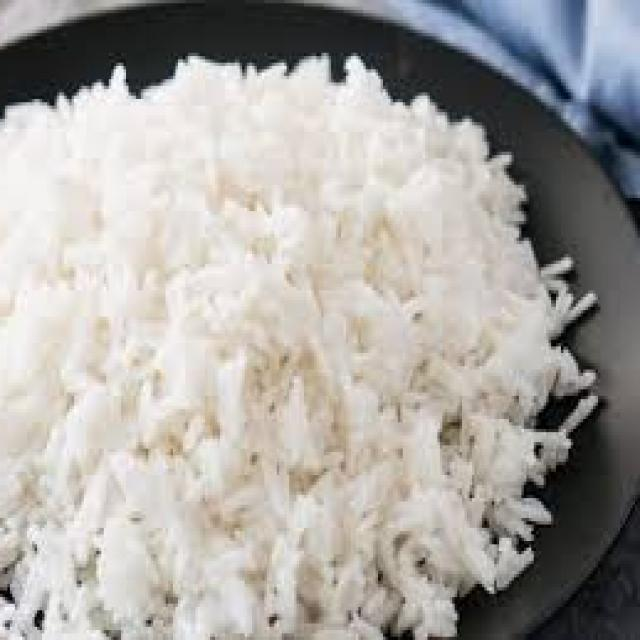White Rice: (0, 75, 556, 640)
